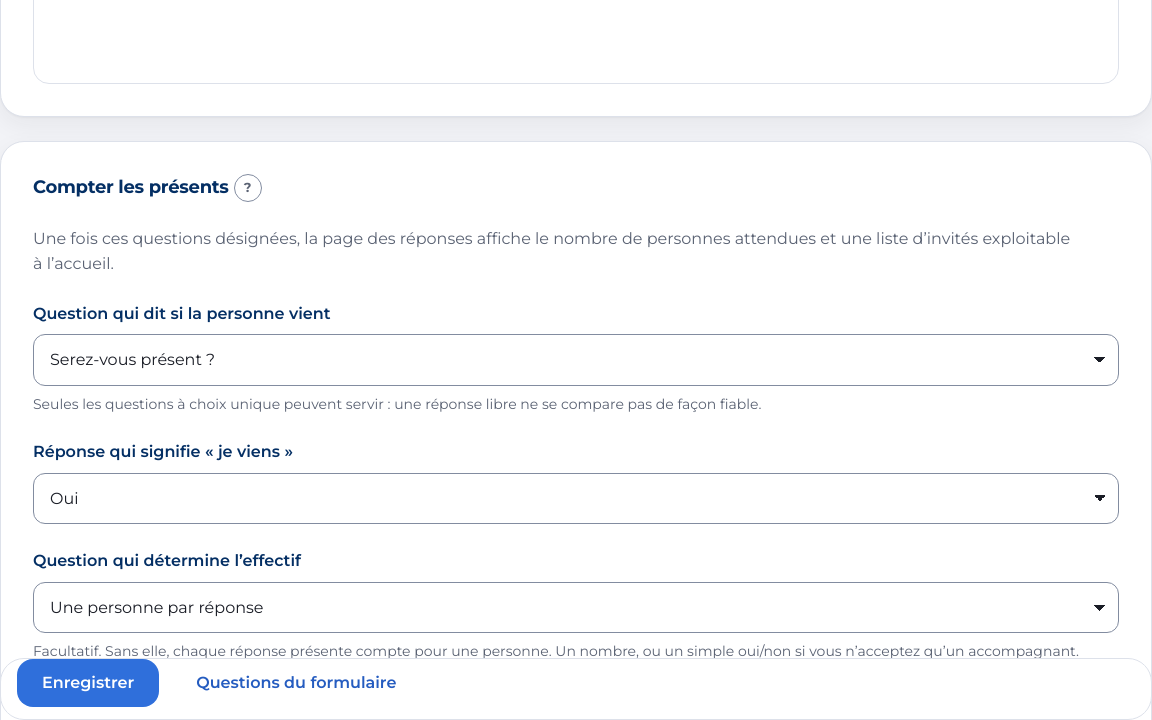
Test: comptage des présents › réinitialise la réponse attendue quand la question change
(page scrolled)
Select "Combien vous accompagnent ?" in the dropdown labelled "Question qui dit si la personne vient" at (576, 360), box [33,334,1119,386]
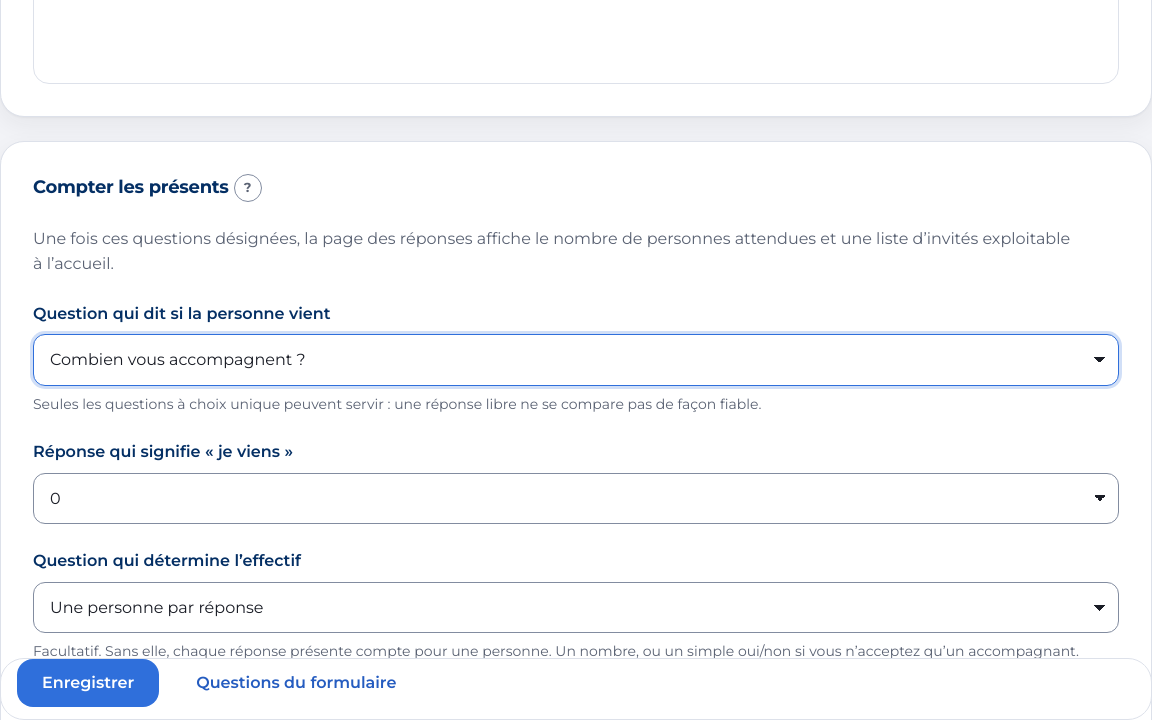
Now the dropdown labelled "Réponse qui signifie « je viens »" shows "0", box [33,473,1119,524]
